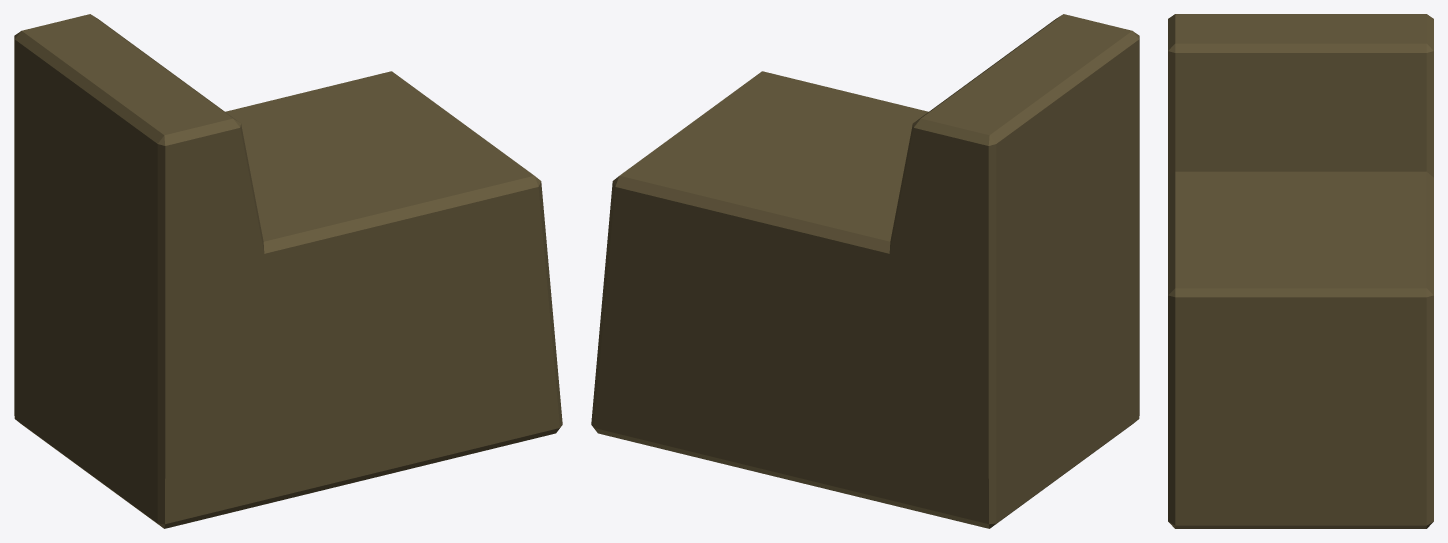
The model's file is SM_ComputerTable.fbx.
3 views of the same model, side by side, from view 1: azimuth 30°, elevation 25°; view 2: azimuth 150°, elevation 25°; view 3: azimuth 270°, elevation 25° (orthographic). The views are drawn at different scales.
Parts seen in each view (by area): view 1: Cube.016; view 2: Cube.016; view 3: Cube.016.
Boxes of the visible parts, left/top/right/bottom form: Cube.016: left=14, top=14, right=562, bottom=528; Cube.016: left=591, top=14, right=1139, bottom=528; Cube.016: left=1168, top=14, right=1433, bottom=528.
Size of the model in its own units: 94.8 by 147 by 136.
